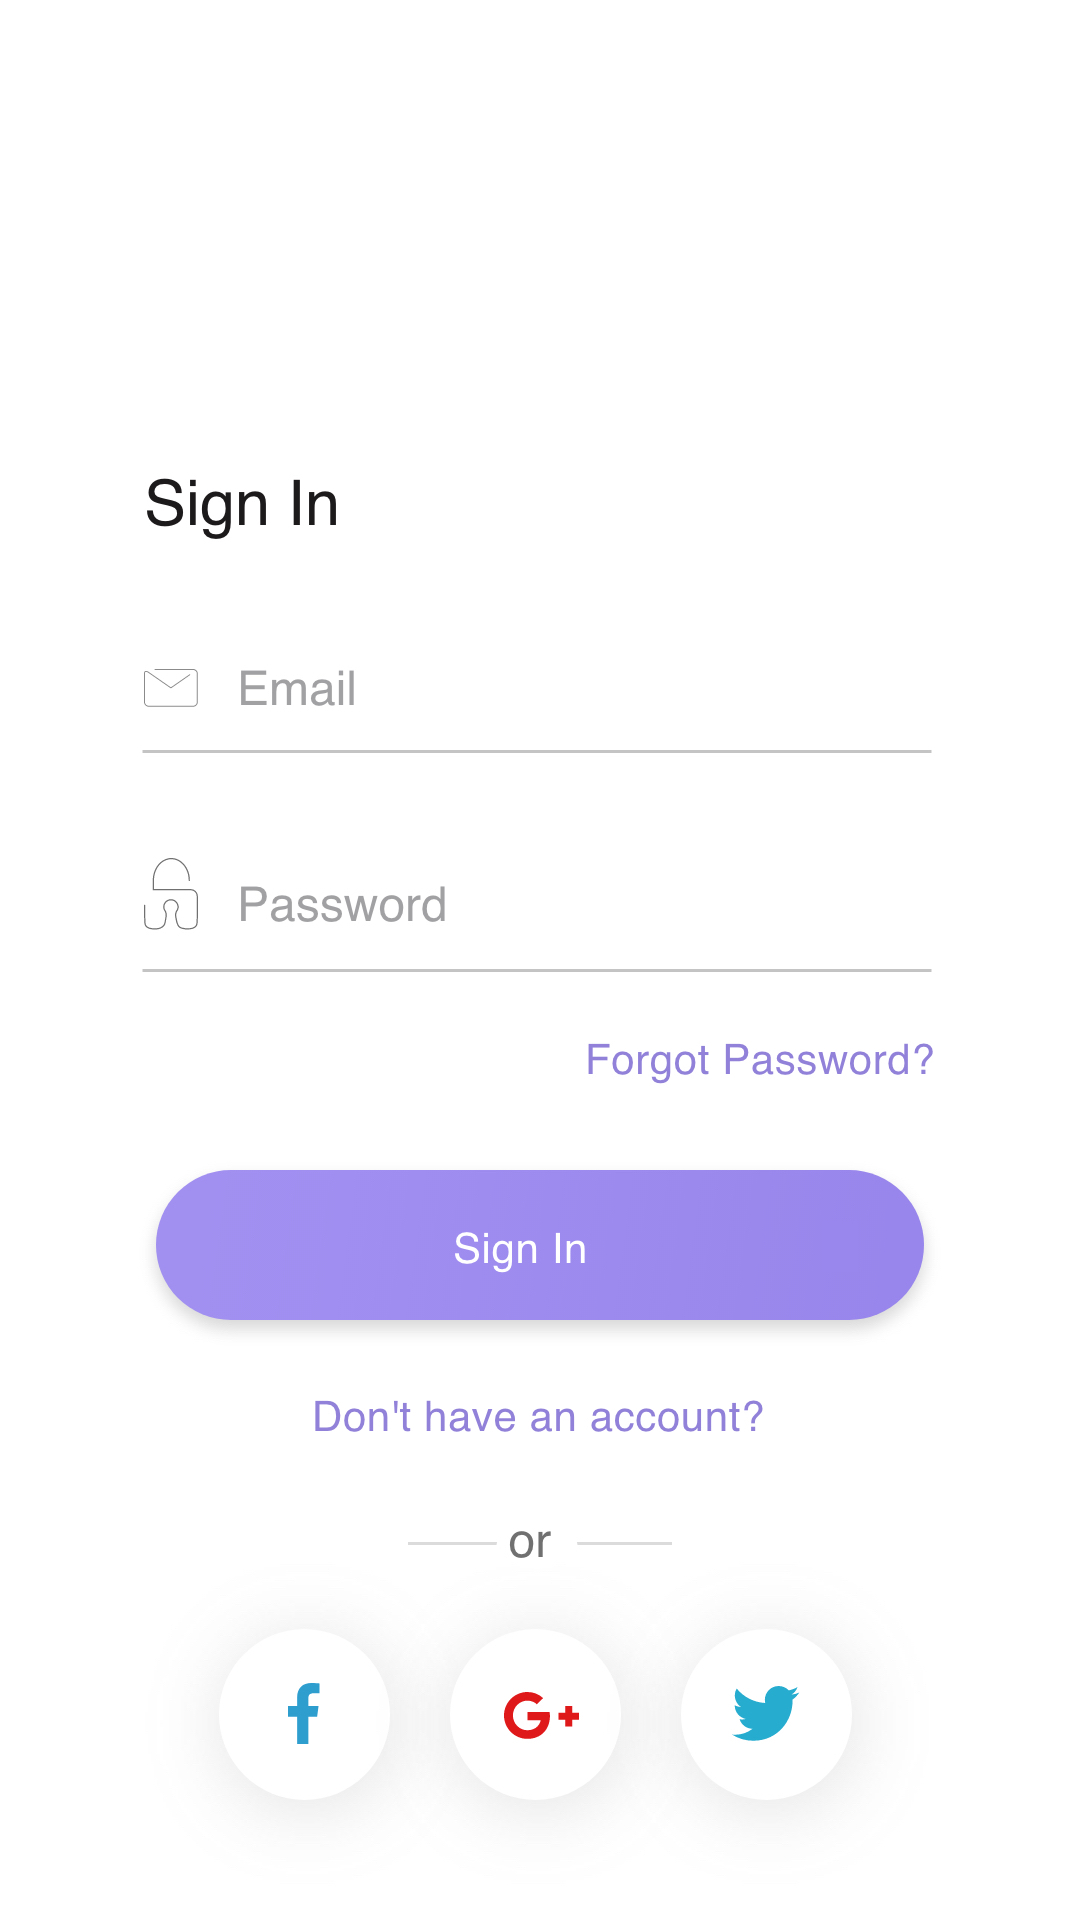EditText: (142, 857, 932, 973), (142, 669, 932, 756)
Icon: (448, 1629, 622, 1801), (219, 1629, 392, 1801), (680, 1629, 853, 1801), (144, 858, 199, 931), (144, 669, 199, 708)
Text: (314, 1399, 764, 1433), (587, 1043, 936, 1085), (146, 477, 338, 541), (241, 886, 447, 924), (241, 669, 356, 707), (509, 1530, 553, 1560)
TextButton: (156, 1168, 924, 1321)
